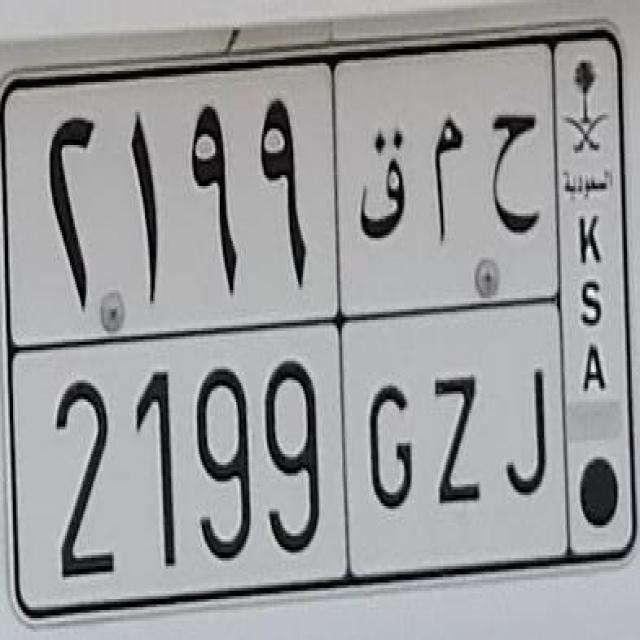license_plate: (3, 18, 639, 628)
